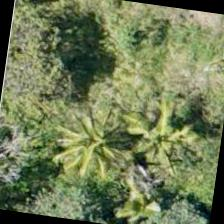Kelapa_Sawit: (115, 80, 217, 182), (36, 100, 138, 202)
